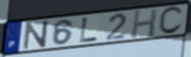2: (105, 13, 129, 42)
6: (52, 19, 76, 47)
C: (157, 5, 185, 36)
H: (130, 8, 159, 40)
L: (79, 16, 100, 44)
N: (22, 19, 50, 51)
